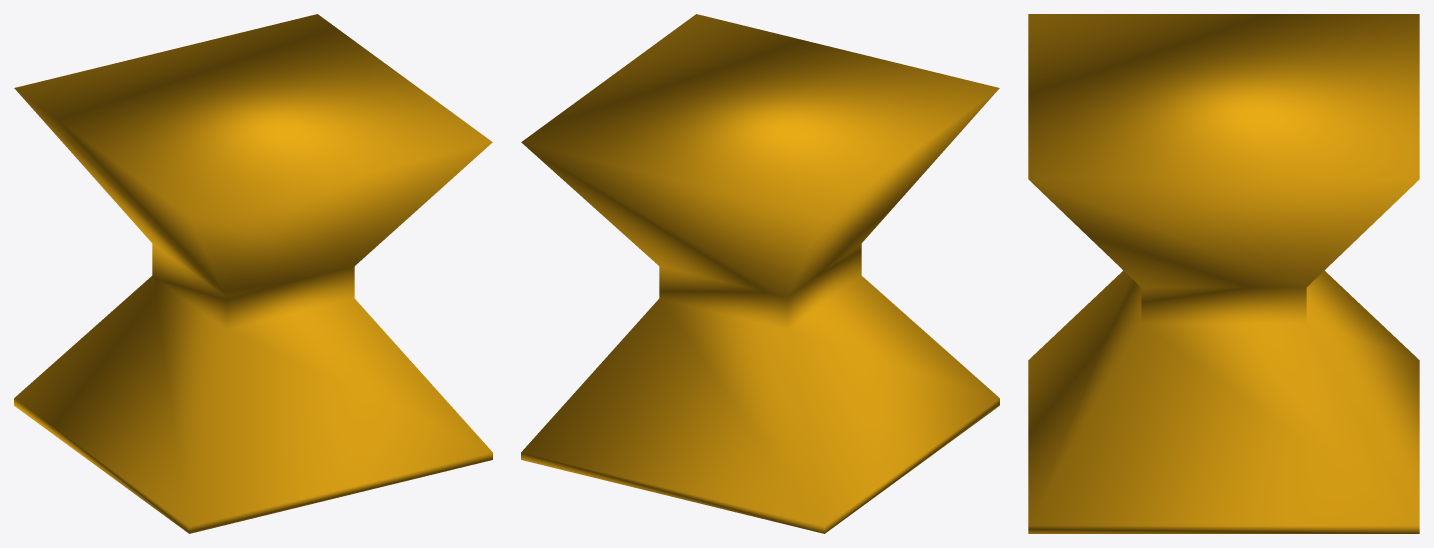
Rendered from Demo.glb.
The picture shows the model from 3 angles, left to right: view 1: azimuth 30°, elevation 25°; view 2: azimuth 150°, elevation 25°; view 3: azimuth 270°, elevation 25°; orthographic projection. The views are drawn at different scales.
Visible parts, largest first — view 1: Cube; view 2: Cube; view 3: Cube.
Part boxes in pixels (x1,y1,x2,y2): Cube: [14, 14, 492, 533]; Cube: [521, 14, 999, 533]; Cube: [1028, 14, 1419, 533].
Size of the model in its own units: 2 by 2 by 2.
